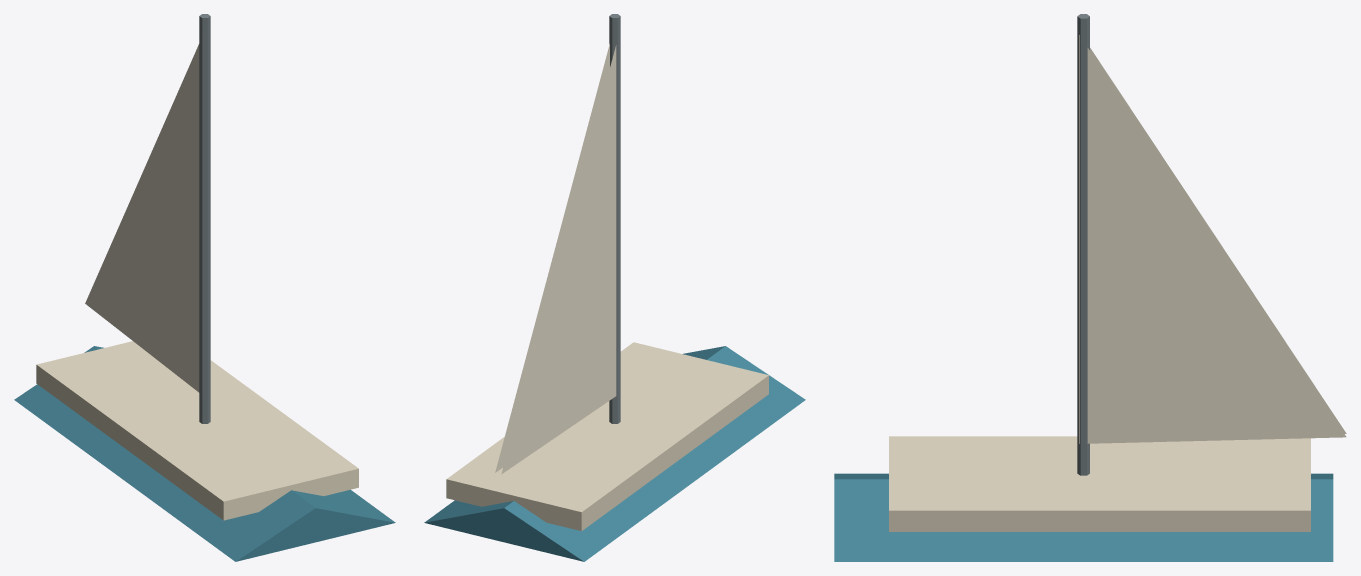
File: sailboat.glb
The picture shows the model from 3 angles, left to right: view 1: azimuth 30°, elevation 25°; view 2: azimuth 150°, elevation 25°; view 3: azimuth 270°, elevation 25°; orthographic projection. The views are drawn at different scales.
Parts seen in each view (by area): view 1: sailboat; view 2: sailboat; view 3: sailboat.
Part boxes in pixels (x1,y1,x2,y2): sailboat: (14,14,395,561); sailboat: (424,14,805,561); sailboat: (834,14,1346,561).
Size of the model in its own units: 2.3 by 6.1 by 5.65.
